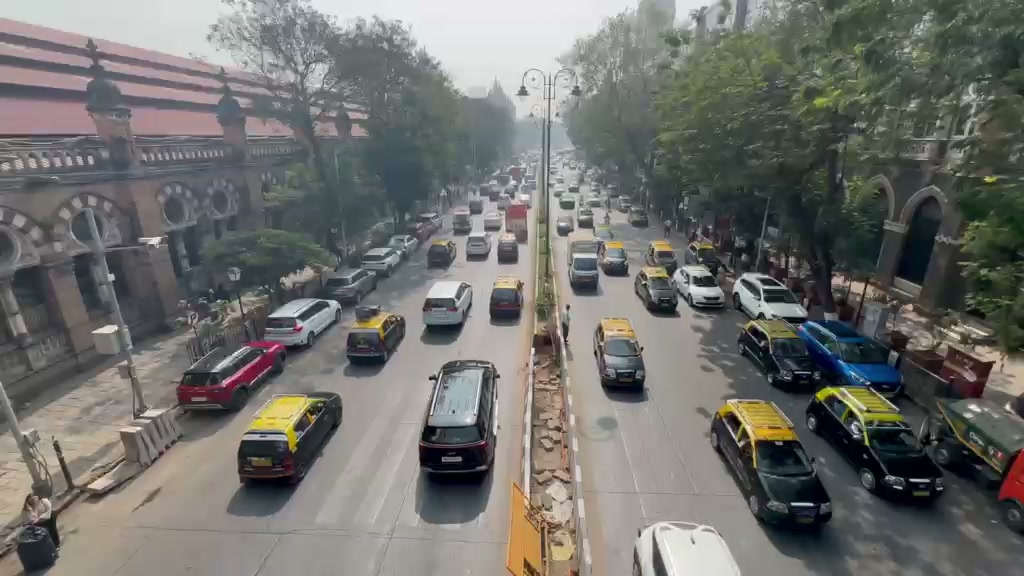car: (804, 383, 946, 503), (708, 397, 834, 531), (235, 391, 344, 488), (418, 358, 501, 481), (797, 318, 905, 398), (174, 341, 287, 414), (737, 315, 820, 391), (632, 521, 743, 576), (262, 296, 342, 348), (592, 317, 647, 391), (345, 305, 407, 366), (733, 273, 808, 322), (421, 279, 474, 330), (318, 264, 378, 307), (671, 264, 726, 310), (996, 446, 1023, 535), (634, 266, 679, 315), (487, 281, 524, 324), (360, 245, 403, 276), (424, 238, 457, 270), (599, 241, 629, 276), (465, 233, 491, 261)
truck: (804, 383, 947, 503)
